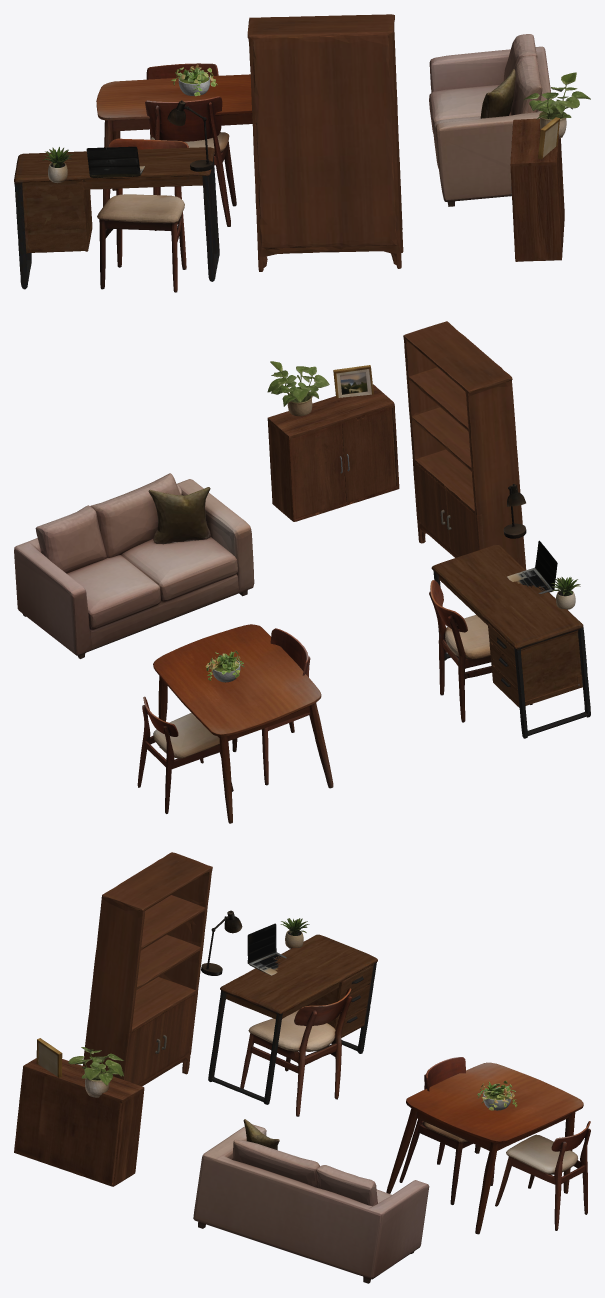
Rendered from figure6-5.glb.
The picture shows the model from 3 angles, top to bottom: view 1: azimuth 30°, elevation 25°; view 2: azimuth 150°, elevation 25°; view 3: azimuth 270°, elevation 25°; orthographic projection. The views are drawn at different scales.
Visible parts, largest first — view 1: obj_1_part_0, obj_13_part_0, obj_0_part_0, obj_2_part_0, obj_8_part_0, obj_7_part_0, obj_6_part_0, obj_3_part_1, obj_12_part_0, obj_0_part_1, obj_0_part_2, obj_10_part_0 (+5 smaller); view 2: obj_13_part_0, obj_1_part_0, obj_8_part_0, obj_0_part_0, obj_2_part_0, obj_2_part_1, obj_2_part_2, obj_7_part_0, obj_5_part_0, obj_1_part_2, obj_12_part_0, obj_1_part_1 (+8 smaller); view 3: obj_13_part_0, obj_1_part_0, obj_2_part_0, obj_8_part_0, obj_0_part_0, obj_7_part_0, obj_5_part_0, obj_6_part_0, obj_1_part_2, obj_1_part_1, obj_12_part_0, obj_3_part_1 (+5 smaller).
Part boxes in pixels (x1=…): obj_1_part_0: x1=247, y1=14, x2=403, y2=271; obj_13_part_0: x1=429, y1=34, x2=551, y2=206; obj_0_part_0: x1=14, y1=147, x2=219, y2=289; obj_2_part_0: x1=510, y1=118, x2=564, y2=261; obj_8_part_0: x1=96, y1=74, x2=252, y2=206; obj_7_part_0: x1=97, y1=138, x2=188, y2=292; obj_6_part_0: x1=145, y1=96, x2=236, y2=230; obj_3_part_1: x1=86, y1=146, x2=140, y2=178; obj_12_part_0: x1=523, y1=72, x2=590, y2=138; obj_0_part_1: x1=22, y1=208, x2=92, y2=253; obj_0_part_2: x1=21, y1=189, x2=90, y2=232; obj_10_part_0: x1=171, y1=64, x2=217, y2=96; obj_13_part_0: x1=14, y1=473, x2=254, y2=658; obj_1_part_0: x1=403, y1=321, x2=526, y2=569; obj_8_part_0: x1=153, y1=624, x2=333, y2=823; obj_0_part_0: x1=431, y1=544, x2=590, y2=738; obj_2_part_0: x1=267, y1=384, x2=399, y2=521; obj_2_part_1: x1=289, y1=424, x2=346, y2=520; obj_2_part_2: x1=342, y1=407, x2=396, y2=502; obj_7_part_0: x1=429, y1=580, x2=532, y2=722; obj_5_part_0: x1=137, y1=696, x2=233, y2=813; obj_1_part_2: x1=413, y1=461, x2=450, y2=548; obj_12_part_0: x1=267, y1=361, x2=329, y2=416; obj_1_part_1: x1=446, y1=490, x2=484, y2=556; obj_13_part_0: x1=193, y1=1119, x2=429, y2=1283; obj_1_part_0: x1=82, y1=852, x2=212, y2=1086; obj_2_part_0: x1=14, y1=1058, x2=144, y2=1186; obj_8_part_0: x1=386, y1=1062, x2=583, y2=1234; obj_0_part_0: x1=208, y1=934, x2=377, y2=1104; obj_7_part_0: x1=240, y1=988, x2=351, y2=1116; obj_5_part_0: x1=495, y1=1121, x2=590, y2=1230; obj_6_part_0: x1=399, y1=1057, x2=494, y2=1204; obj_1_part_2: x1=120, y1=1014, x2=162, y2=1084; obj_1_part_1: x1=156, y1=992, x2=197, y2=1072; obj_12_part_0: x1=68, y1=1047, x2=123, y2=1097; obj_3_part_1: x1=247, y1=923, x2=277, y2=964.
Size of the model in its own units: 2.04 by 1.16 by 1.96.
22 materials, 22 textured.
